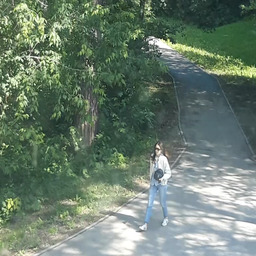person: (138, 142, 171, 232)
